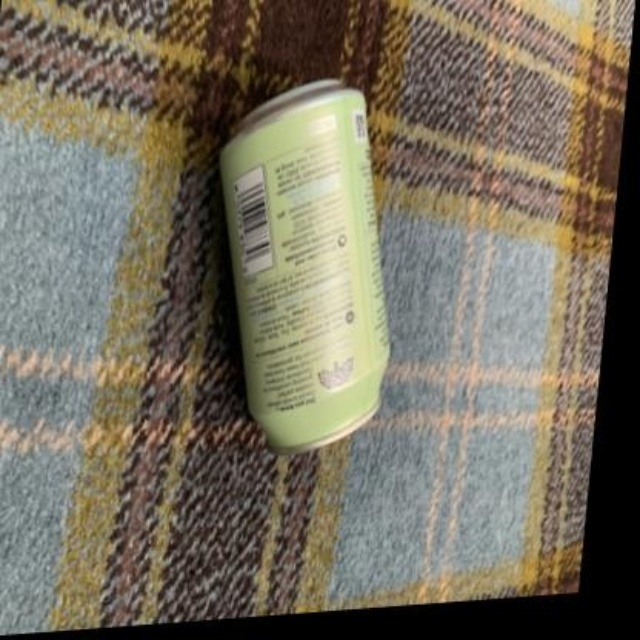trash: (220, 80, 388, 452)
